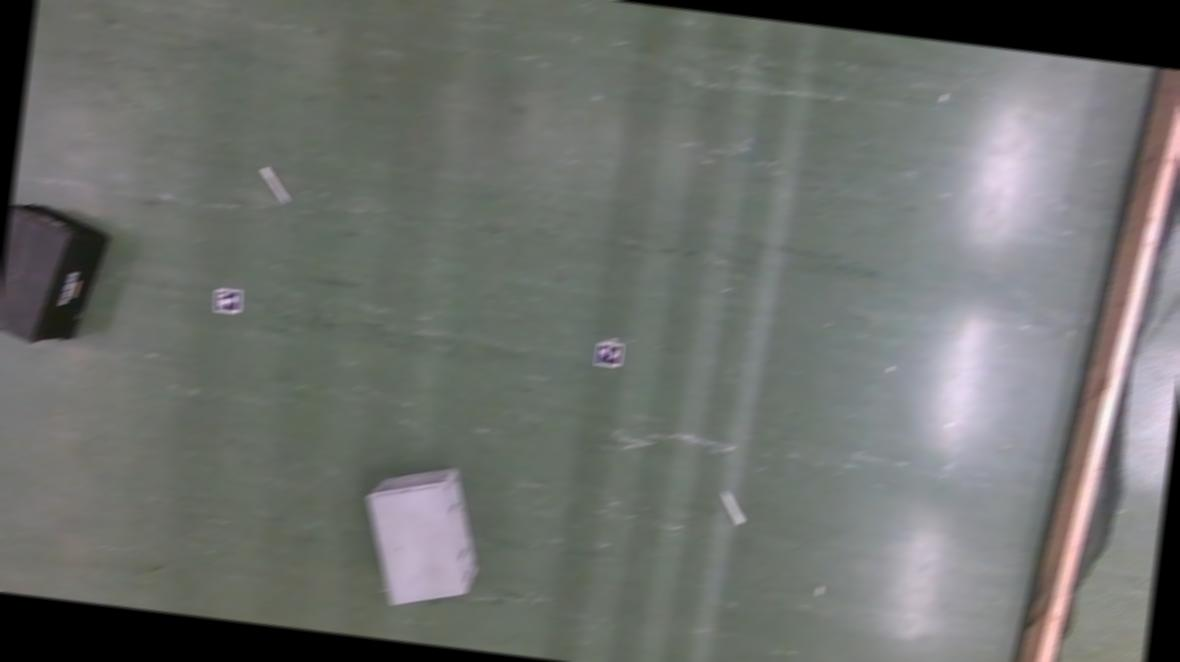probes: (256, 167, 290, 203), (716, 491, 746, 526)
rako: (350, 455, 492, 618), (0, 200, 113, 350)
